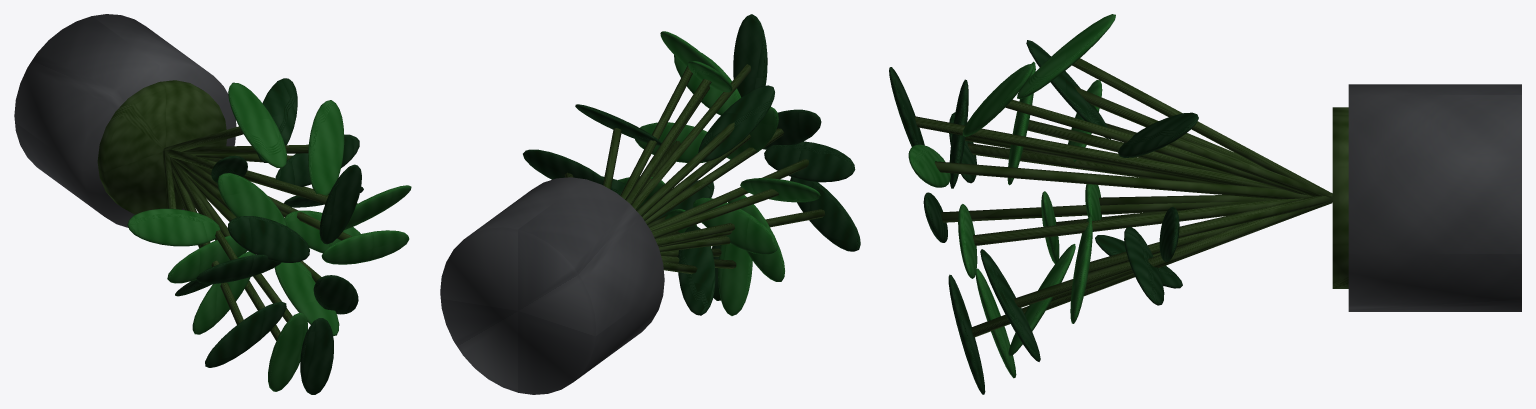
Rendered from PLANT_LARGE_REALISTIC_HERO_001.glb.
3 views of the same model, side by side, from view 1: azimuth 30°, elevation 25°; view 2: azimuth 150°, elevation 25°; view 3: azimuth 270°, elevation 25° (orthographic). The views are drawn at different scales.
Visible parts, largest first — view 1: large_pot_000, soil_001, leaf_023, leaf_011, leaf_021, leaf_015, leaf_029, leaf_037, leaf_003, leaf_013, leaf_039, leaf_019 (+23 smaller); view 2: large_pot_000, leaf_025, leaf_017, leaf_029, leaf_033, leaf_013, leaf_027, leaf_035, stem_012, leaf_005, stem_014, leaf_021 (+19 smaller); view 3: large_pot_000, stem_006, stem_012, stem_002, soil_001, stem_014, stem_028, stem_010, leaf_015, stem_024, leaf_009, stem_004 (+26 smaller).
Part boxes in pixels (x1,y1,x2,y2): large_pot_000: (14,14,236,227); soil_001: (97,80,226,214); leaf_023: (127,208,220,246); leaf_011: (308,100,344,195); leaf_021: (228,216,309,262); leaf_015: (228,82,287,167); leaf_029: (205,301,286,367); leaf_037: (300,318,333,394); leaf_003: (321,230,409,264); leaf_013: (319,164,361,244); leaf_039: (274,262,339,335); leaf_019: (217,173,287,226); large_pot_000: (440,177,664,394); leaf_025: (764,141,855,182); leaf_017: (698,85,774,161); leaf_029: (790,177,860,251); leaf_033: (678,225,715,315); leaf_013: (733,14,767,97); leaf_027: (693,197,777,254); leaf_035: (718,244,752,315); stem_012: (632,64,751,210); leaf_005: (523,149,613,190); stem_014: (625,79,711,205); leaf_021: (763,109,821,149); large_pot_000: (1348,84,1521,311); stem_006: (934,161,1311,199); stem_012: (915,116,1283,189); stem_002: (973,198,1303,245); soil_001: (1332,107,1348,288); stem_014: (1072,58,1331,193); stem_028: (941,201,1255,222); stem_010: (1005,99,1307,195); leaf_015: (1017,14,1115,99); stem_024: (967,143,1210,183); leaf_009: (1118,112,1198,157); stem_004: (1178,194,1332,237).
Bounding box in the file's own units: 0.8517 × 0.872 × 1.39.
4 materials, 4 textured.
